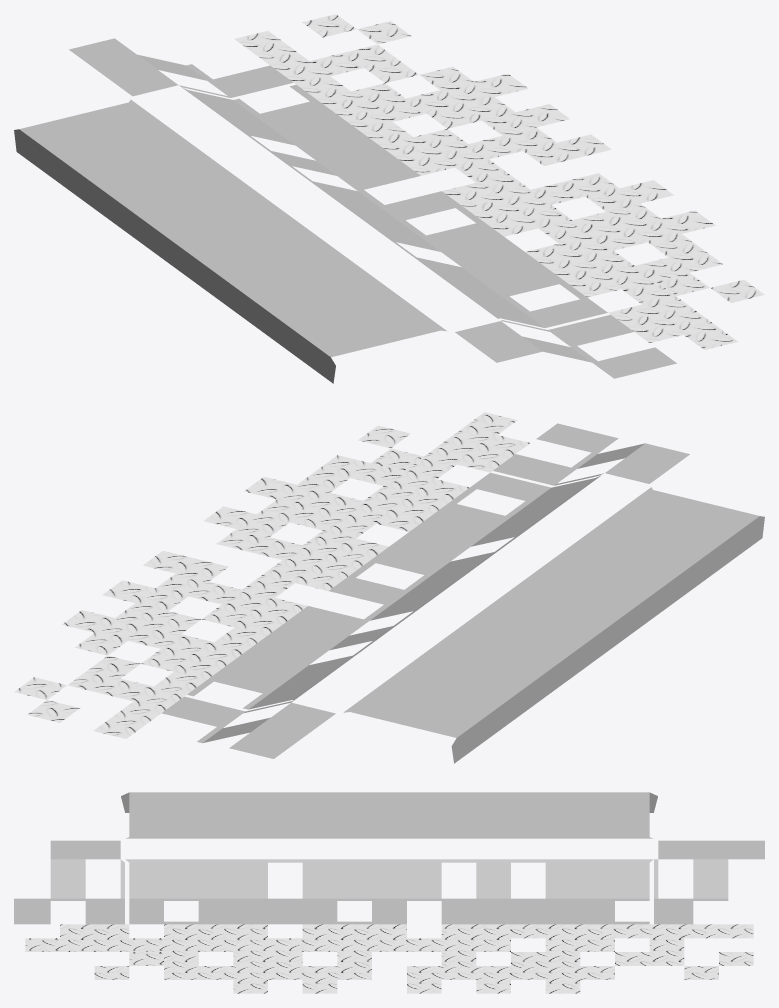
The model's file is TutorialDoorEdge.fbx.
The picture shows the model from 3 angles, top to bottom: view 1: azimuth 30°, elevation 25°; view 2: azimuth 150°, elevation 25°; view 3: azimuth 270°, elevation 25°; orthographic projection. The views are drawn at different scales.
Parts seen in each view (by area): view 1: Door Frame Type 3.002, Tutorial Door Edge; view 2: Door Frame Type 3.002, Tutorial Door Edge; view 3: Door Frame Type 3.002, Tutorial Door Edge.
Part boxes in pixels (left/top/right/bottom): Door Frame Type 3.002: left=14, top=38, right=676, bottom=383; Tutorial Door Edge: left=234, top=14, right=764, bottom=349; Door Frame Type 3.002: left=162, top=423, right=764, bottom=763; Tutorial Door Edge: left=14, top=412, right=530, bottom=738; Door Frame Type 3.002: left=14, top=792, right=764, bottom=924; Tutorial Door Edge: left=25, top=924, right=753, bottom=993.
Size of the model in its own units: 12.37 by 7.1 by 0.3737.
